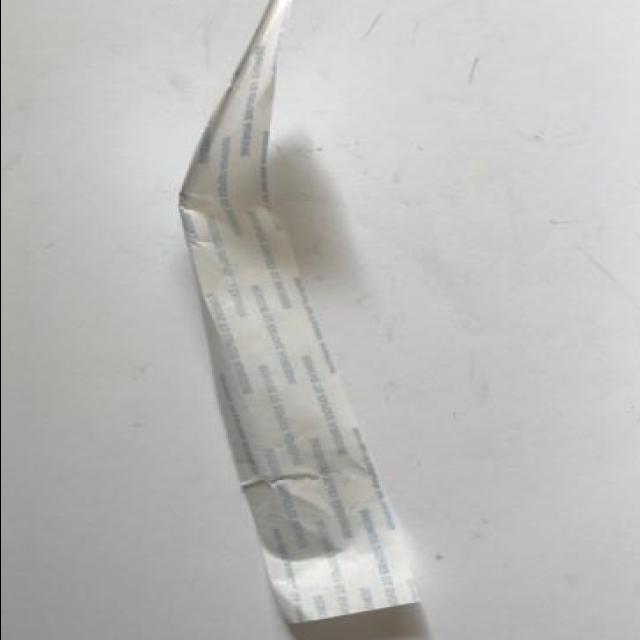kertas: (173, 0, 424, 627)
